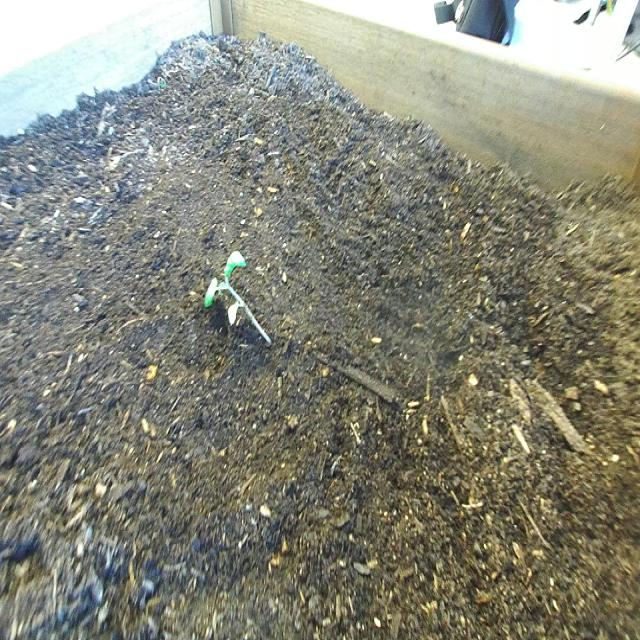Healthy: (203, 248, 276, 353)
